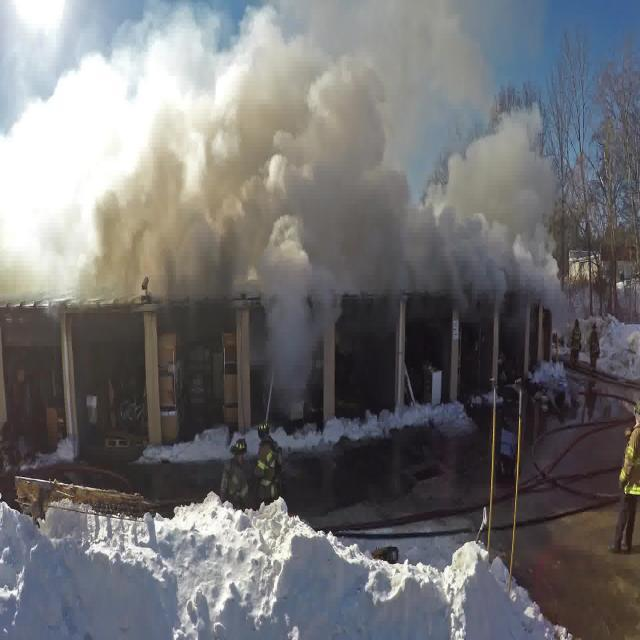Fire: (442, 541, 482, 631)
Smoke: (21, 41, 566, 300)
